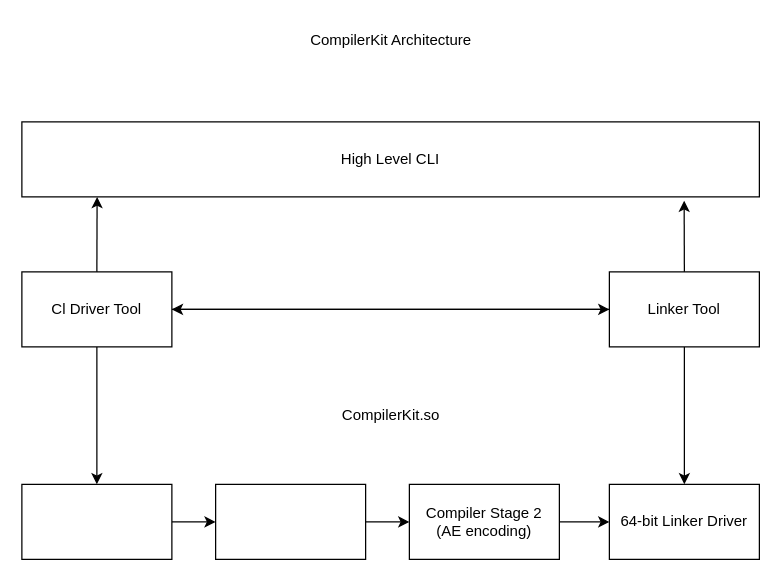
Image size: 781x581. Some labels were removed from this diagram. The box of each missing label's shape, as (x1, y1, x2, y2) in pixels:
Compiler Stage 1 (Assembler): (214, 483, 366, 559)
Frontend: (21, 483, 172, 559)
